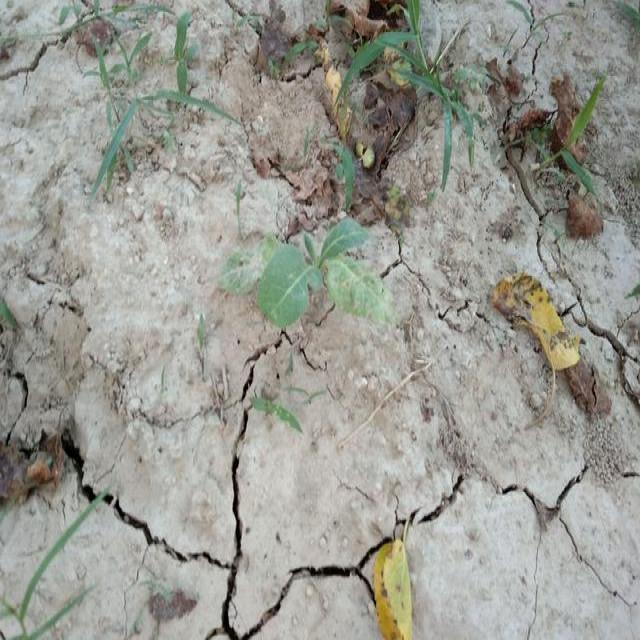crop: (207, 217, 383, 330)
